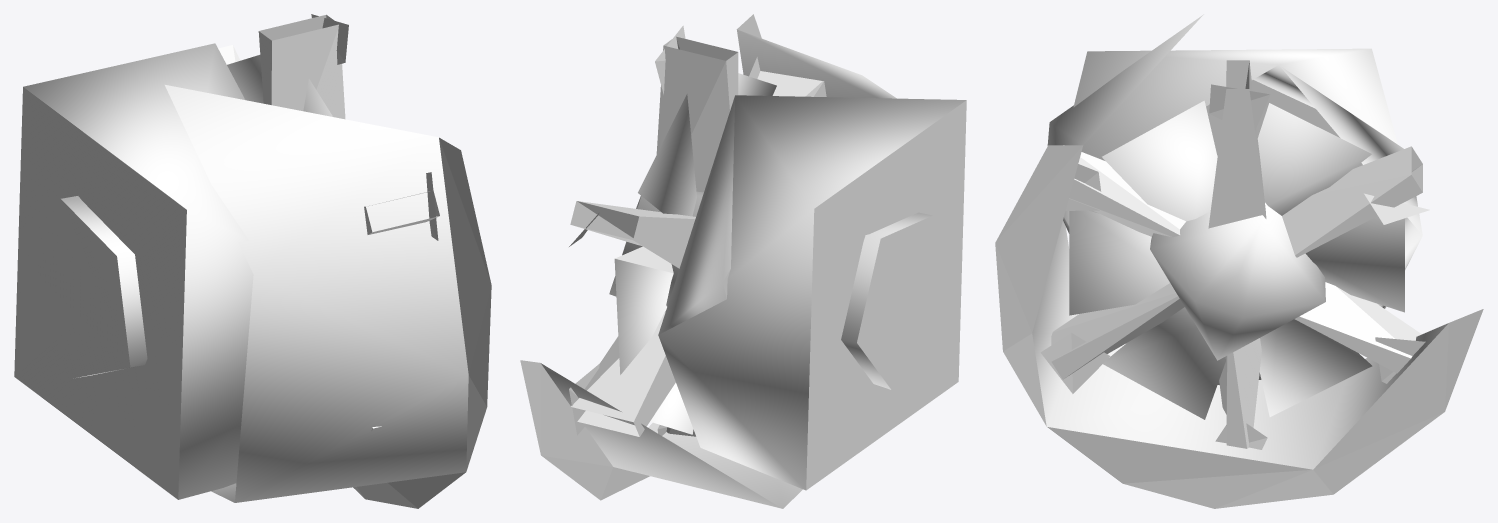
3 views of the same model, side by side, from view 1: azimuth 30°, elevation 25°; view 2: azimuth 150°, elevation 25°; view 3: azimuth 270°, elevation 25° (orthographic). The views are drawn at different scales.
Size of the model in its own units: 0.4167 by 0.6646 by 0.706.
Materials: 1 (1 with a texture image).
